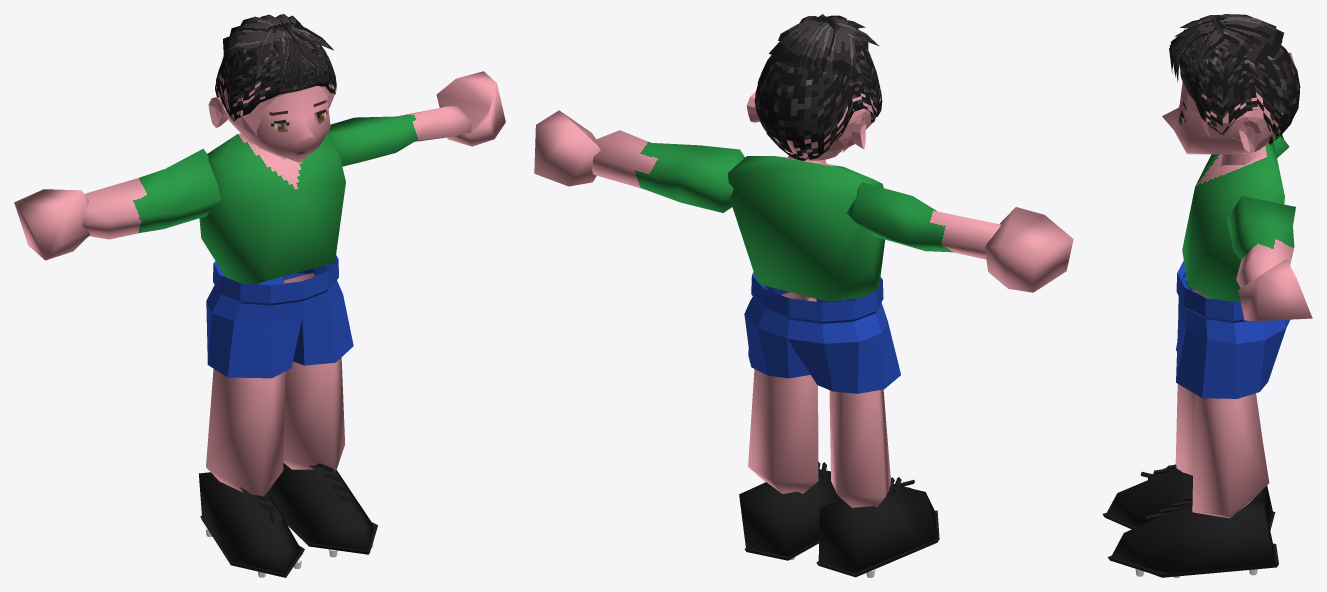
File: 02-jogador-degrade_preto.glb
The picture shows the model from 3 angles, left to right: view 1: azimuth 30°, elevation 25°; view 2: azimuth 150°, elevation 25°; view 3: azimuth 270°, elevation 25°; orthographic projection. The views are drawn at different scales.
Parts seen in each view (by area): view 1: Camisa_Tronco, Bermuda, Perna.R, Cabelo, Braco.R, Perna.L, Chuteira.R, Chuteira.L, Braco.L, Cabeca, Mao.R, Mao.L (+4 smaller); view 2: Camisa_Tronco, Cabelo, Bermuda, Perna.L, Braco.L, Chuteira.R, Perna.R, Braco.R, Mao.R, Chuteira.L, Mao.L, Cranio (+1 smaller); view 3: Cabelo, Bermuda, Chuteira.L, Camisa_Tronco, Perna.L, Braco.L, Mao.L, Chuteira.R, Cabeca, Perna.R, Cranio, Chuteira_Sola.L (+4 smaller).
Part boxes in pixels (box(x1,y1,x2,y2)): Camisa_Tronco: box(199, 133, 345, 284); Bermuda: box(206, 255, 353, 378); Perna.R: box(206, 369, 285, 500); Cabelo: box(215, 14, 336, 120); Braco.R: box(82, 148, 221, 239); Perna.L: box(283, 273, 344, 471); Chuteira.R: box(198, 472, 302, 573); Chuteira.L: box(268, 463, 373, 550); Braco.L: box(327, 106, 472, 166); Cabeca: box(232, 85, 330, 162); Mao.R: box(14, 189, 90, 260); Mao.L: box(436, 71, 505, 146); Camisa_Tronco: box(727, 156, 884, 301); Cabelo: box(754, 14, 882, 160); Bermuda: box(744, 272, 900, 393); Perna.L: box(748, 292, 818, 493); Braco.L: box(592, 130, 744, 212); Chuteira.R: box(818, 484, 937, 572); Perna.R: box(829, 389, 890, 507); Braco.R: box(846, 182, 1001, 259); Mao.R: box(985, 207, 1073, 292); Chuteira.L: box(739, 469, 840, 556); Mao.L: box(534, 110, 600, 186); Cranio: box(773, 93, 880, 160); Cabelo: box(1169, 14, 1300, 144); Bermuda: box(1176, 260, 1289, 398); Chuteira.L: box(1111, 497, 1276, 577); Camisa_Tronco: box(1182, 140, 1284, 301); Perna.L: box(1192, 393, 1269, 518); Braco.L: box(1227, 196, 1295, 287); Mao.L: box(1238, 258, 1312, 321); Chuteira.R: box(1106, 468, 1272, 527); Cabeca: box(1162, 81, 1254, 154); Perna.R: box(1175, 289, 1261, 475); Cranio: box(1201, 92, 1283, 154); Chuteira_Sola.L: box(1107, 543, 1278, 577).
Bounding box in the file's own units: 0.4523 × 0.4516 × 0.1617.
3 materials, 3 textured.
